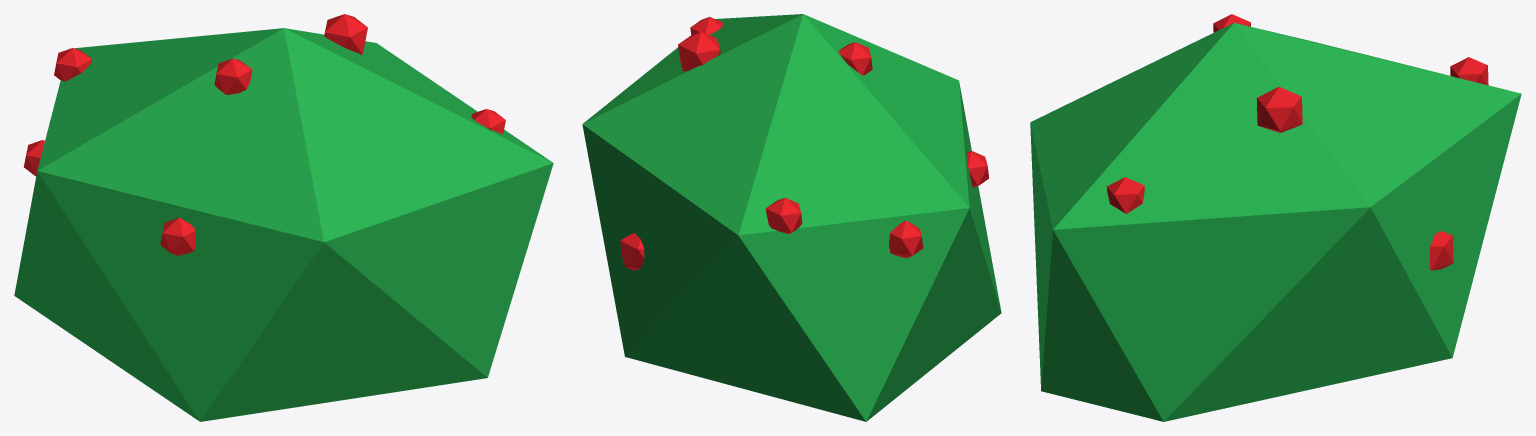
File: SmallBush.obj
3 renders of one model, left to right at view 1: azimuth 30°, elevation 25°; view 2: azimuth 150°, elevation 25°; view 3: azimuth 270°, elevation 25°, orthographic. The views are drawn at different scales.
Parts seen in each view (by area): view 1: Icosphere.007_Icosphere.000; view 2: Icosphere.007_Icosphere.000; view 3: Icosphere.007_Icosphere.000.
Part boxes in pixels (x1,y1,x2,y2): Icosphere.007_Icosphere.000: (14, 14, 553, 421); Icosphere.007_Icosphere.000: (582, 14, 1001, 421); Icosphere.007_Icosphere.000: (1030, 14, 1521, 421).
Bounding box in the file's own units: 2.06 × 1.71 × 2.17.
Materials: 1 (1 with a texture image).
